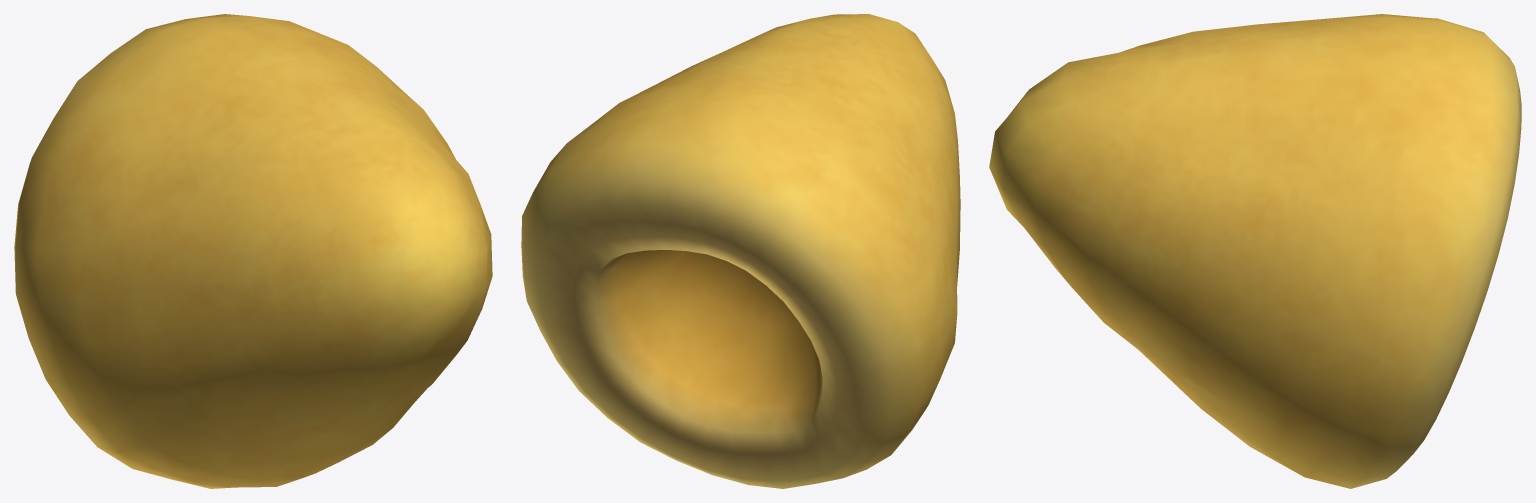
File: BFWoWoTou.obj
3 renders of one model, left to right at view 1: azimuth 30°, elevation 25°; view 2: azimuth 150°, elevation 25°; view 3: azimuth 270°, elevation 25°, orthographic. The views are drawn at different scales.
Visible parts, largest first — view 1: woWoTou; view 2: woWoTou; view 3: woWoTou.
Boxes of the visible parts, left/top/right/bottom form: woWoTou: left=14, top=14, right=492, bottom=488; woWoTou: left=521, top=14, right=960, bottom=488; woWoTou: left=989, top=14, right=1521, bottom=488.
Bounding box in the file's own units: 0.7884 × 0.7781 × 0.8724.
